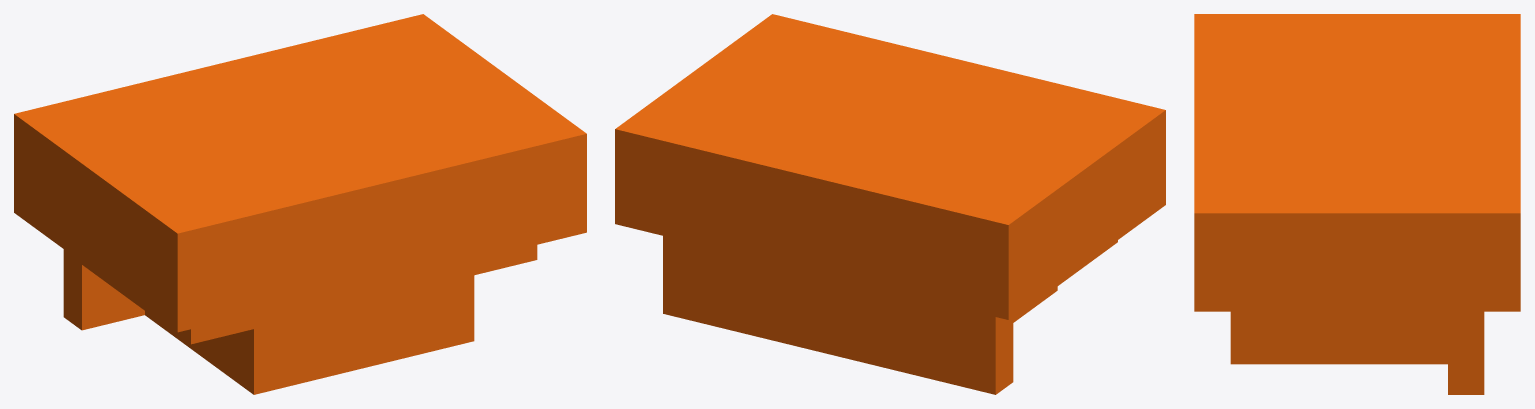
File: PlayerOrange-2-Player_waist.obj
3 views of the same model, side by side, from view 1: azimuth 30°, elevation 25°; view 2: azimuth 150°, elevation 25°; view 3: azimuth 270°, elevation 25° (orthographic). The views are drawn at different scales.
Visible parts, largest first — view 1: Player_waist; view 2: Player_waist; view 3: Player_waist.
Part boxes in pixels (x1,y1,x2,y2): Player_waist: [14, 14, 586, 394]; Player_waist: [615, 14, 1165, 394]; Player_waist: [1194, 14, 1520, 394].
Size of the model in its own units: 1.3 by 0.6 by 0.9.
1 material, 1 textured.
